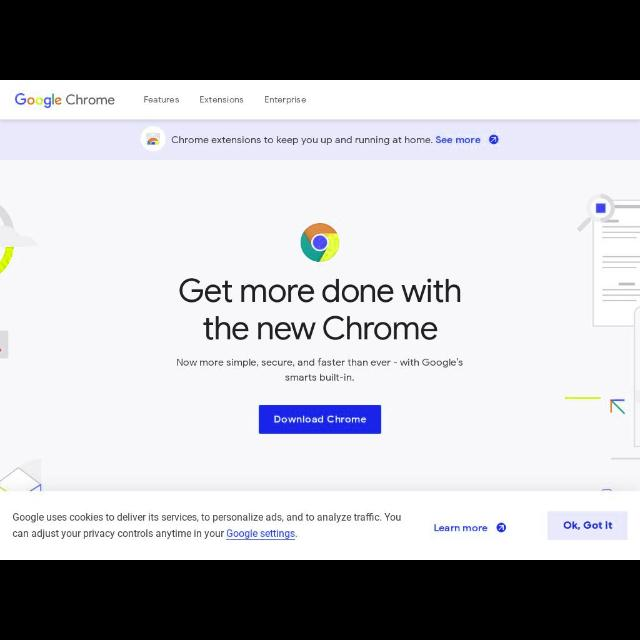backgroundimage: (1, 160, 640, 492)
icon: (496, 522, 506, 532), (489, 134, 498, 144)
image: (300, 222, 340, 262), (14, 93, 62, 109), (140, 126, 166, 152)
link: (226, 529, 298, 541)
text: (179, 278, 461, 302), (202, 316, 438, 340), (13, 528, 299, 542), (14, 513, 402, 523), (177, 358, 463, 368), (171, 136, 481, 144), (274, 415, 366, 423), (67, 94, 115, 106), (564, 521, 612, 531), (286, 374, 354, 381), (434, 524, 488, 532), (265, 95, 305, 105), (200, 95, 243, 103), (144, 95, 180, 104)
textbutton: (258, 406, 382, 434), (548, 512, 628, 540)
toolbar: (1, 81, 639, 119)
